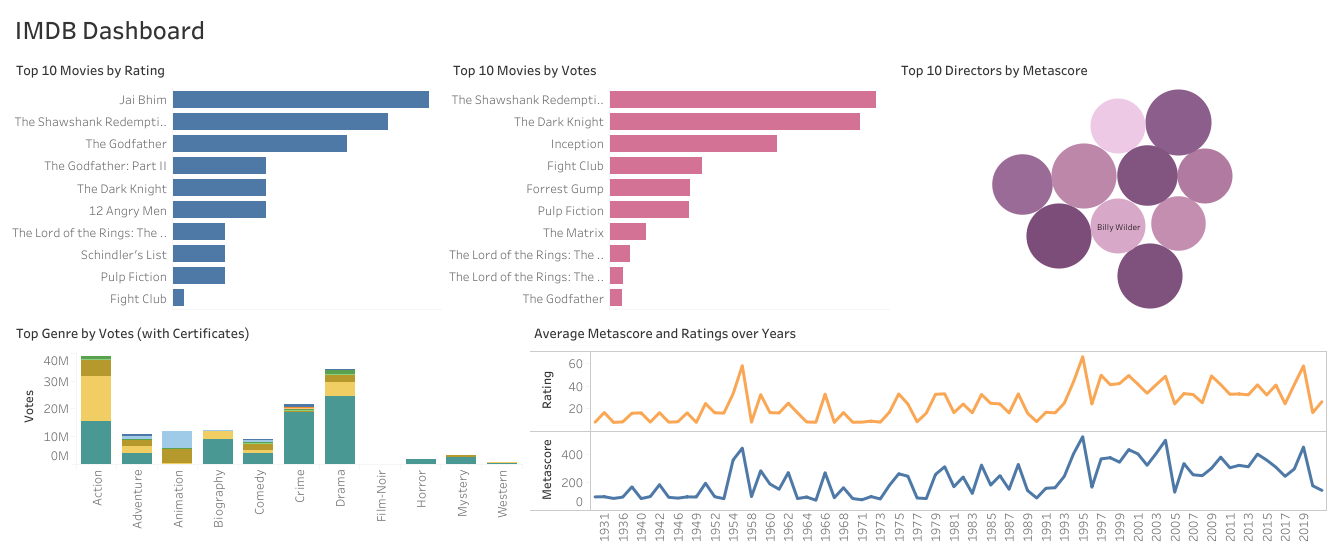

Layout of this report page (visuals, bound fields, positions):
{"tool":"tableau","page":{"name":"IMDB Dashboard","canvas":[1000,1000],"units":"permille","ordinal":0},"visuals":[{"type":"title","box":[7.1,12.7,985.8,64.9]},{"type":"worksheet","title":"Top 10 Movies by Rating","mark":"Automatic","rows":["movie name "],"cols":["RATING"],"box":[7.1,77.5,325.6,480.2]},{"type":"worksheet","title":"Top 10 Movies by Votes","mark":"Automatic","rows":["movie name "],"cols":["votes"],"box":[332.7,77.5,333.7,480.2]},{"type":"worksheet","title":"Top 10 Directors by Metascore","mark":"Circle","box":[666.4,77.5,326.5,480.2]},{"type":"worksheet","title":"Top Genre by Votes (with Certificates)","mark":"Automatic","rows":["votes"],"cols":["genre - Split 1"],"box":[7.1,557.8,386,429.6]},{"type":"worksheet","title":"Average Metascore and Ratings over Years","mark":"Automatic","rows":["RATING","metascore"],"cols":["Year"],"box":[393.1,557.8,599.8,429.6]}]}

Visuals, with their boxes on the dashboard's canvas, which has no fixed pixel size, in thousandths of its width and height (x1, y1, x2, y2). These are canvas units, not pixel positions in the 1338x555 screenshot, which may show the page scaled, cropped or inside an application window:
title: detection(7, 13, 993, 78)
"Top 10 Movies by Rating" worksheet: detection(7, 78, 333, 558)
"Top 10 Movies by Votes" worksheet: detection(333, 78, 666, 558)
"Top 10 Directors by Metascore" worksheet (Circle marks): detection(666, 78, 993, 558)
"Top Genre by Votes (with Certificates)" worksheet: detection(7, 558, 393, 987)
"Average Metascore and Ratings over Years" worksheet: detection(393, 558, 993, 987)
